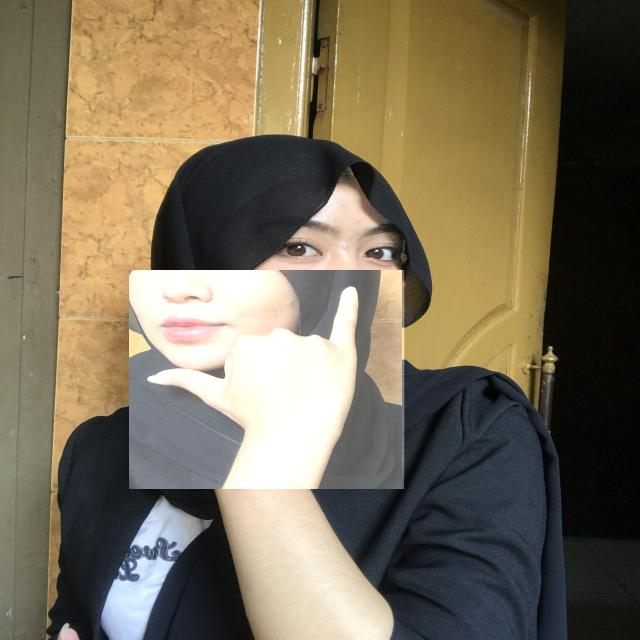telpon: (130, 270, 406, 489)
